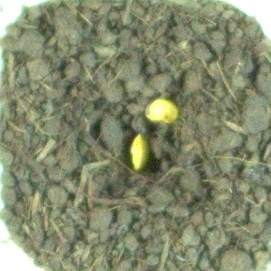chilli seed: (128, 131, 154, 172), (143, 97, 181, 125)
